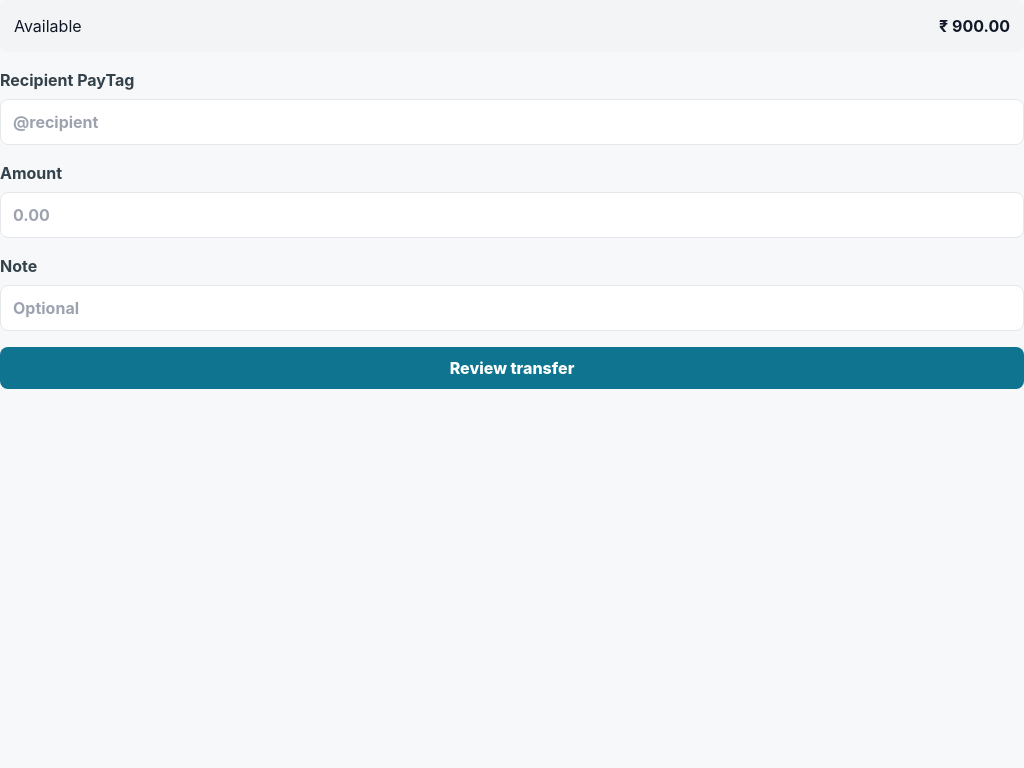
it: SendMoneyForm › submits the expected transfer payload after confirmation
Type "@receiver" into the field labelled "Recipient PayTag".
click(512, 122); type("@receiver")  # box [0,99,1023,145]
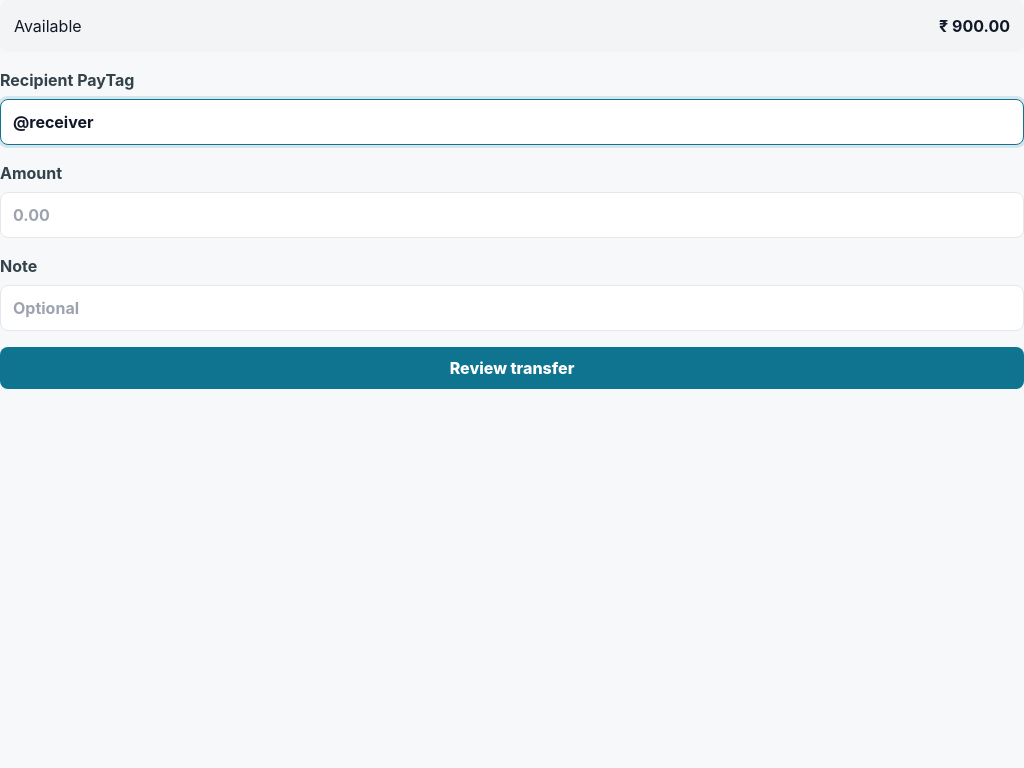
Type "15.25" into the field labelled "Amount".
click(512, 215); type("15.25")  # box [0,192,1023,238]
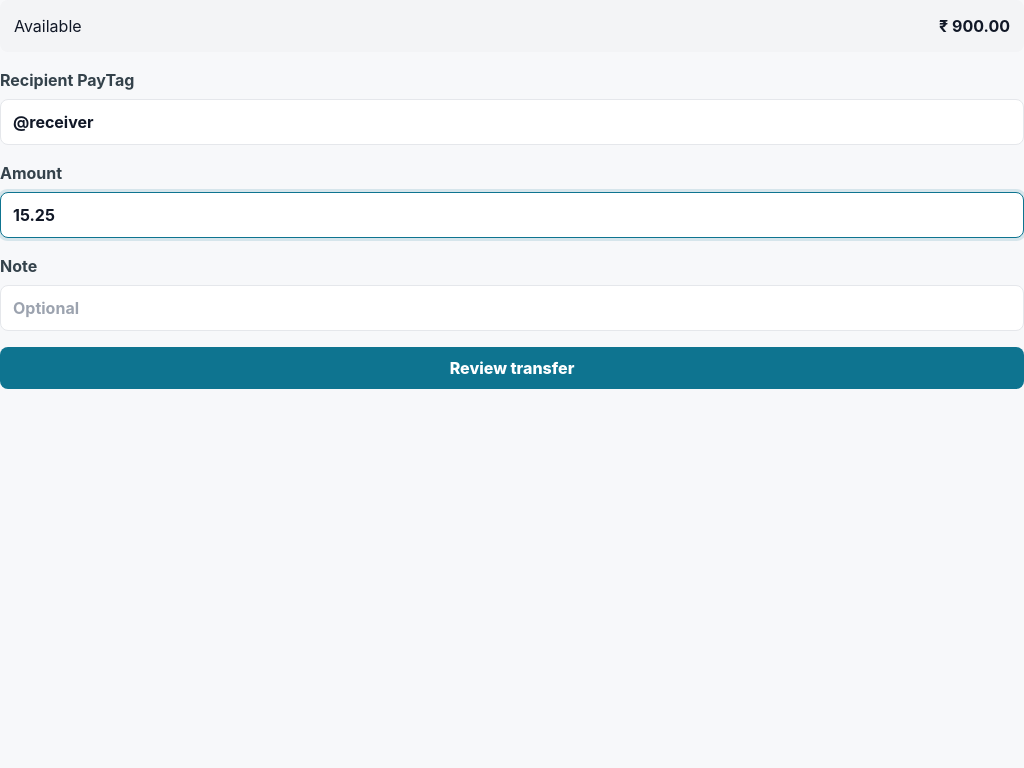
Type "Lunch" into the field labelled "Note".
click(512, 308); type("Lunch")  # box [0,285,1023,331]
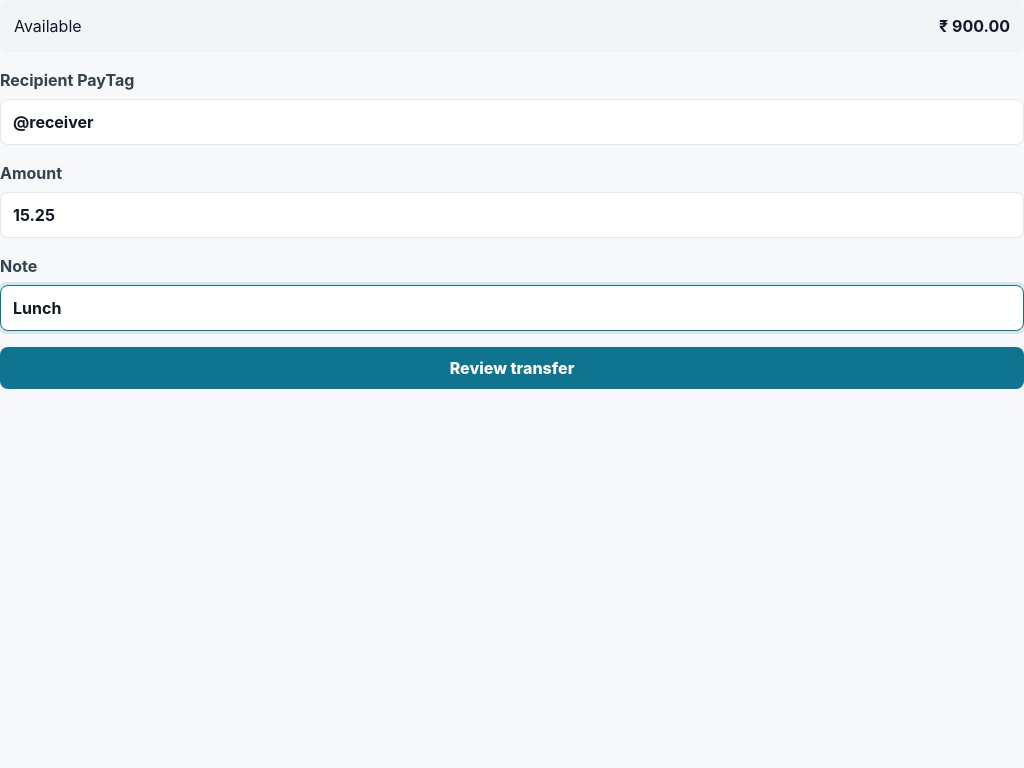
Click the button "Review transfer".
click(512, 368)  # box [0,347,1023,389]
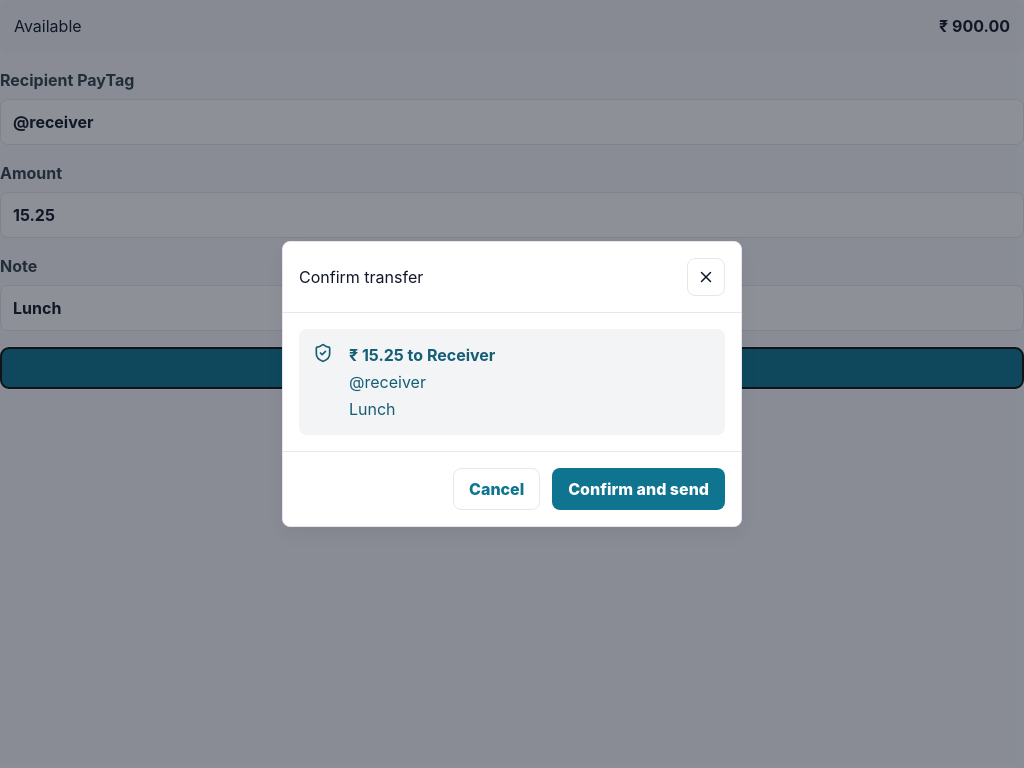
Check: the dialog "Confirm transfer" is shown, box [282,241,742,527]
Click the button "Confirm and send".
click(639, 489)  # box [552,468,725,510]
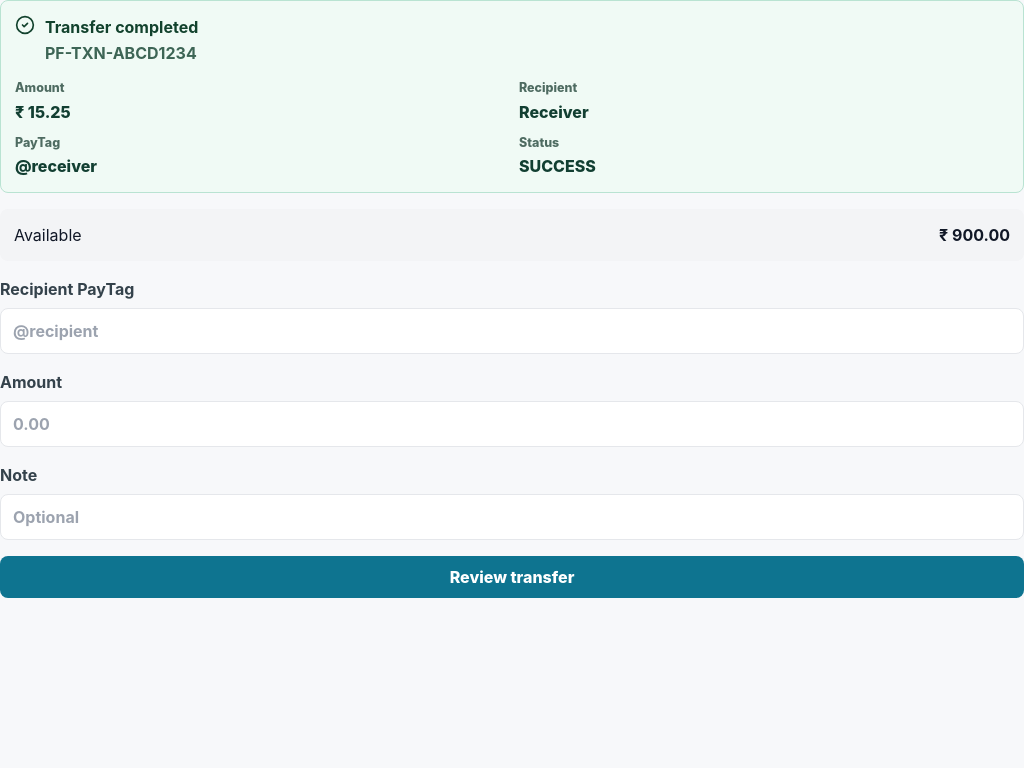
Check: the text "₹ 15.25" is shown, box [15,102,71,122]
Check: the element named "transfer receipt" is shown, box [0,0,1023,193]
Check: the text "PF-TXN-ABCD1234" is shown, box [45,41,198,65]
